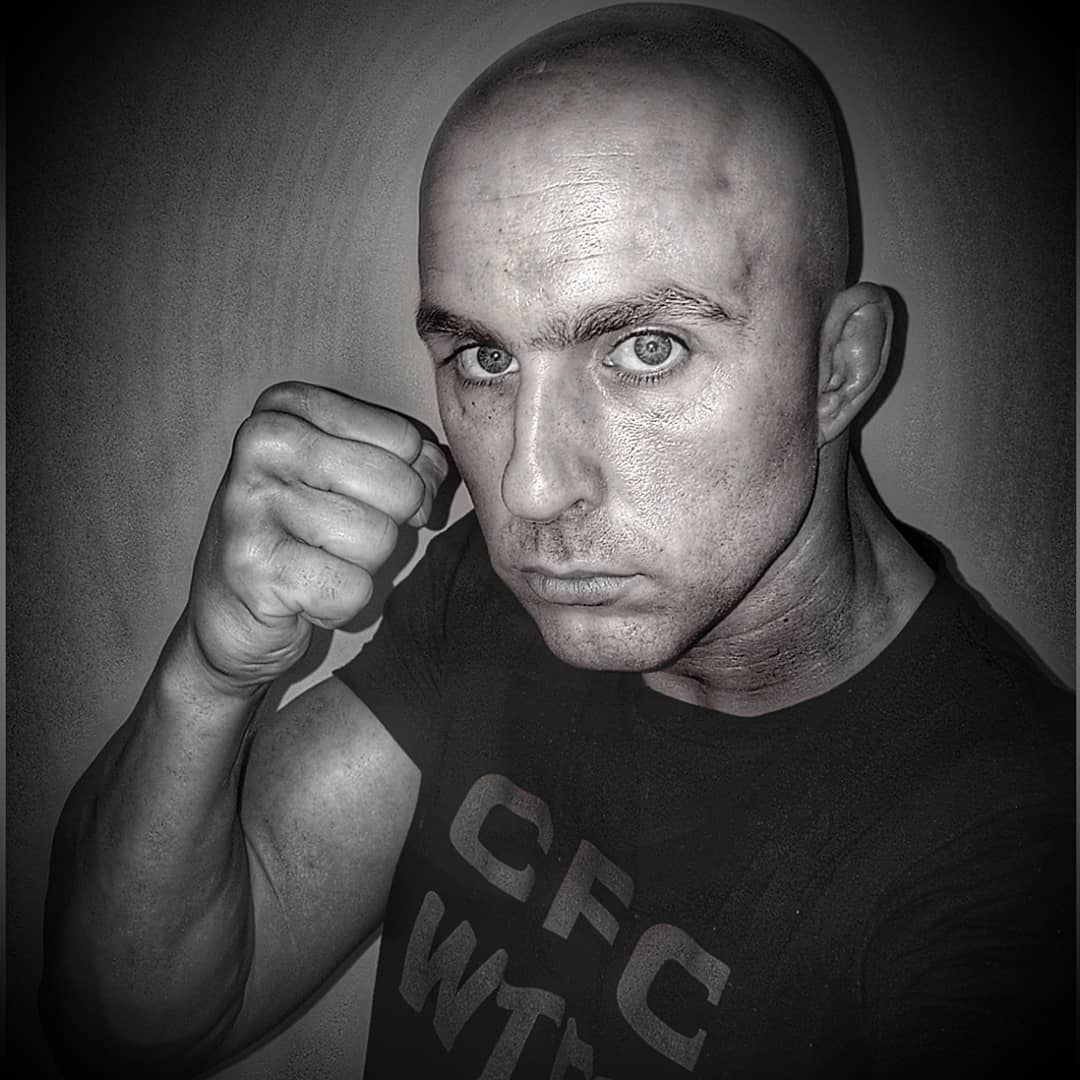hand: (171, 421, 431, 645)
